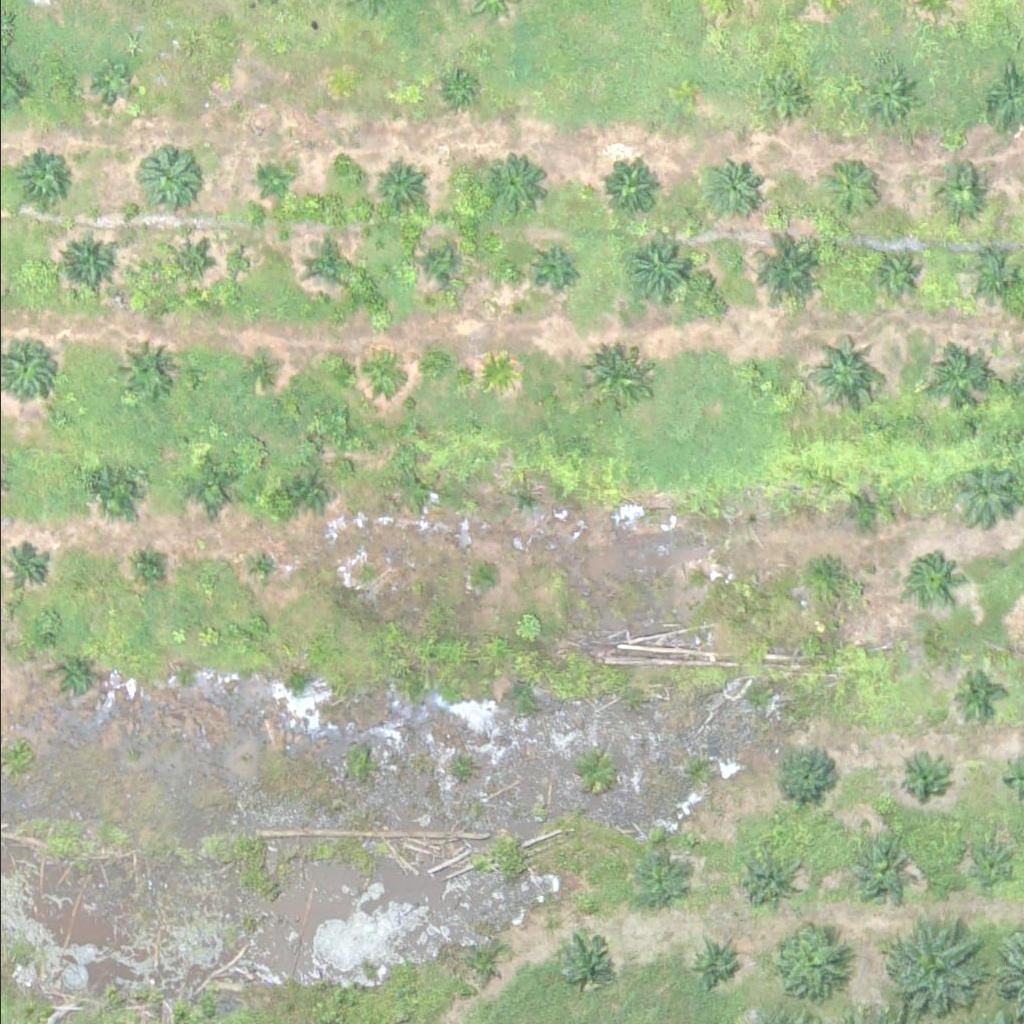Kelapa_Sawit: (873, 913, 973, 1013), (762, 915, 850, 1002), (742, 227, 830, 314), (803, 335, 879, 410), (624, 230, 699, 305), (140, 144, 203, 207), (818, 153, 881, 216), (701, 156, 764, 219), (735, 850, 798, 913), (952, 464, 1015, 527), (776, 745, 839, 808), (584, 347, 647, 410), (852, 67, 915, 130), (13, 145, 76, 207), (481, 150, 544, 212), (598, 154, 661, 216), (845, 844, 908, 906), (924, 347, 987, 409), (56, 228, 119, 290), (112, 338, 175, 400), (79, 458, 142, 520), (683, 938, 746, 1000), (178, 457, 241, 519), (372, 156, 423, 206), (951, 667, 1002, 717), (897, 751, 948, 801), (302, 233, 353, 283), (838, 485, 889, 535), (803, 547, 854, 597), (932, 165, 982, 215), (523, 237, 573, 287), (629, 857, 679, 907), (565, 933, 615, 983), (906, 552, 956, 602), (764, 70, 814, 120), (967, 838, 1017, 888), (51, 653, 101, 703), (160, 234, 210, 284), (409, 238, 459, 288), (870, 246, 921, 295), (463, 950, 501, 988), (478, 353, 516, 391), (241, 551, 279, 589), (289, 475, 327, 513), (356, 355, 394, 393), (236, 354, 274, 392), (398, 471, 436, 509), (435, 70, 473, 108), (974, 256, 1012, 293), (504, 480, 542, 517), (252, 161, 290, 198), (97, 64, 134, 101), (137, 553, 163, 578), (477, 565, 502, 590), (686, 562, 711, 587), (739, 363, 764, 388)
